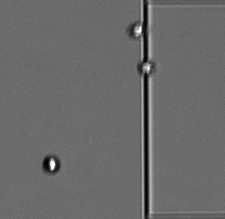Living Cell: (137, 58, 157, 78), (41, 154, 60, 174), (129, 21, 144, 39)
